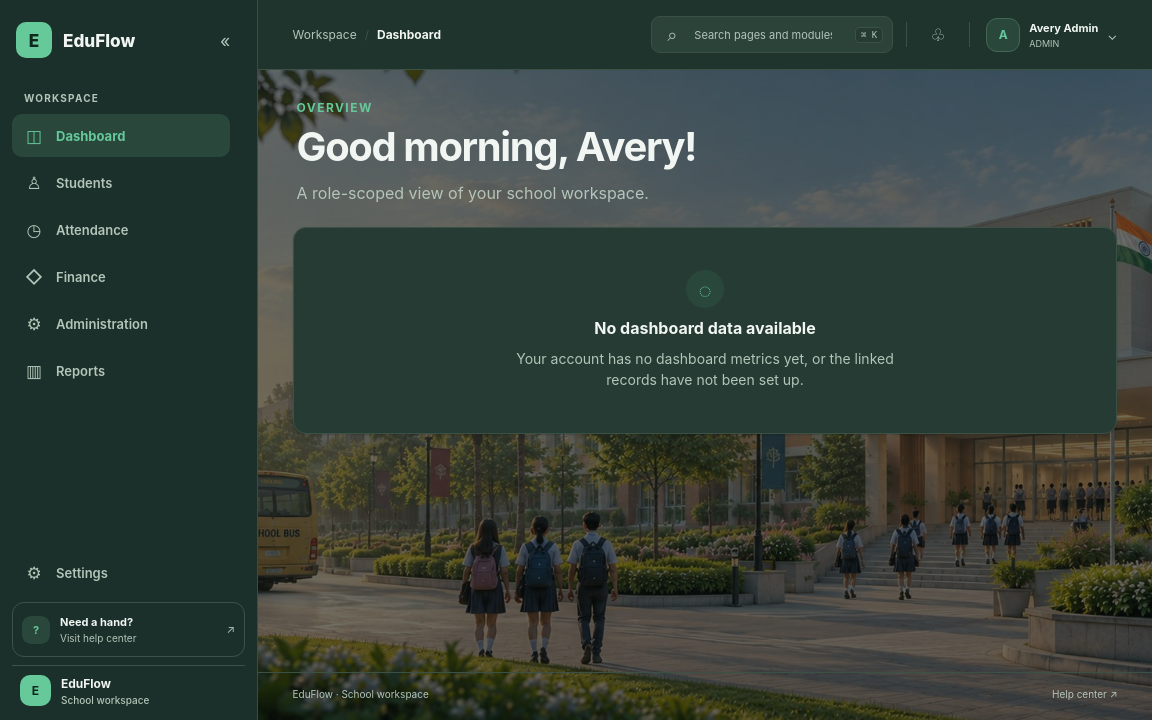
Test: authenticated application shell › shows navigation according to permissions and persists collapsed state
The width and height of the screenshot is (1152, 720).
Check: the navigation bar named "Workspace" is shown, box [12,114,245,543]
Check: the link "♙ Students" is shown, box [26,172,112,192]
Click the button named "Collapse sidebar".
click(225, 40)  # box [210,25,240,55]
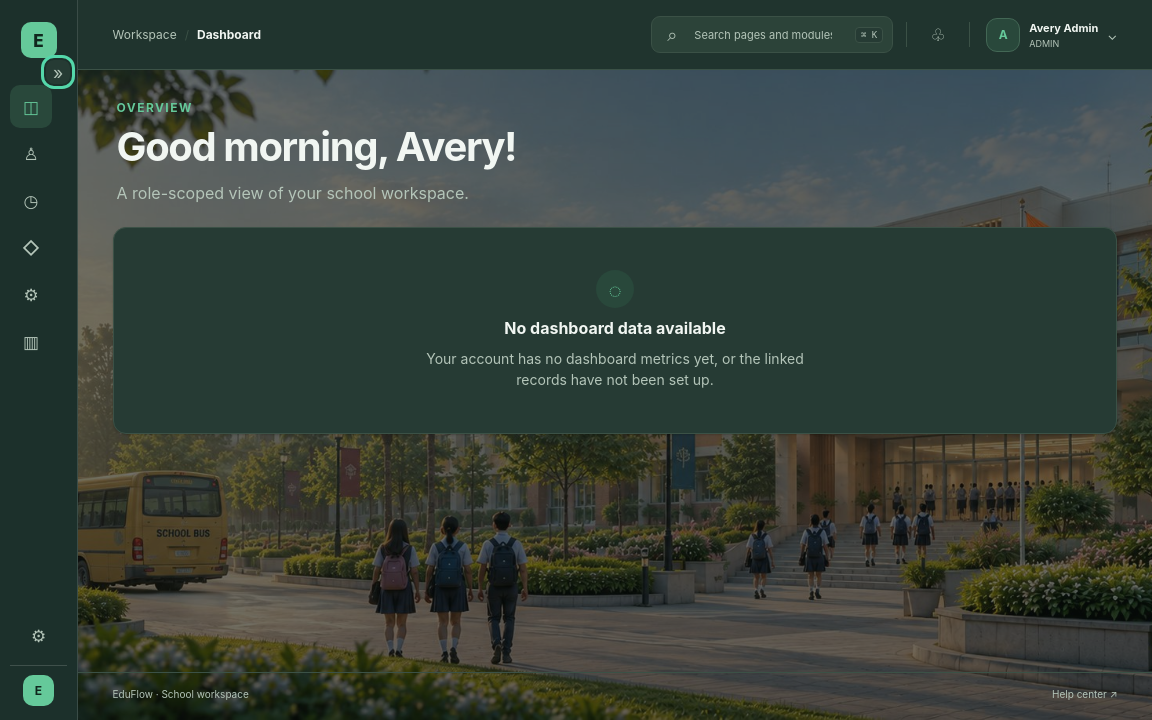
Check: the button named "Expand sidebar" is shown, box [46,60,70,84]
